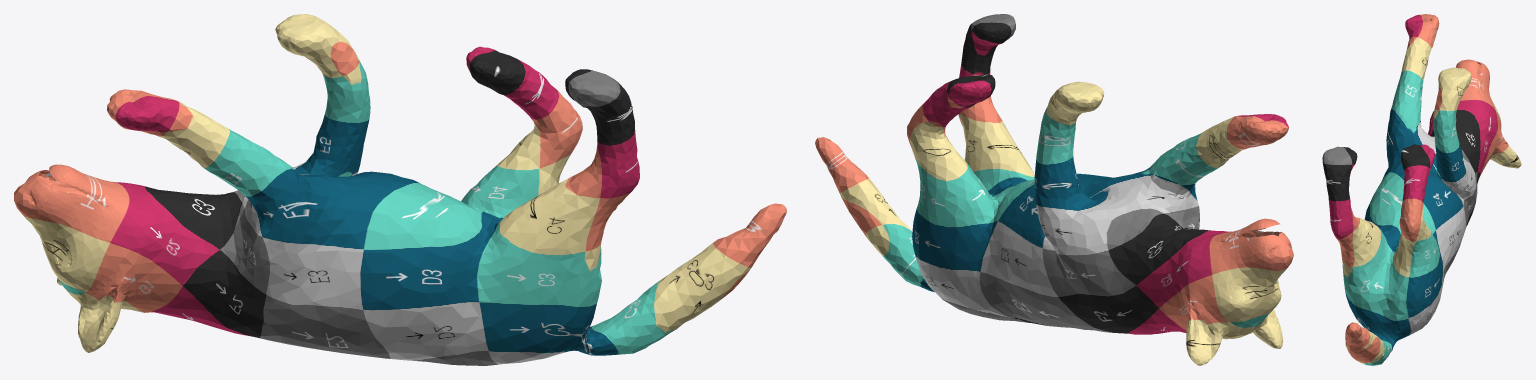
The model's file is dog_01-wolf_01.obj.
3 views of the same model, side by side, from view 1: azimuth 30°, elevation 25°; view 2: azimuth 150°, elevation 25°; view 3: azimuth 270°, elevation 25° (orthographic). The views are drawn at different scales.
Parts seen in each view (by area): view 1: dog_01-wolf_01_export; view 2: dog_01-wolf_01_export; view 3: dog_01-wolf_01_export.
Part boxes in pixels (x1,y1,x2,y2): dog_01-wolf_01_export: [14, 14, 786, 365]; dog_01-wolf_01_export: [815, 14, 1293, 365]; dog_01-wolf_01_export: [1322, 14, 1521, 365].
Bounding box in the file's own units: 1.14 × 0.5608 × 0.4731.
